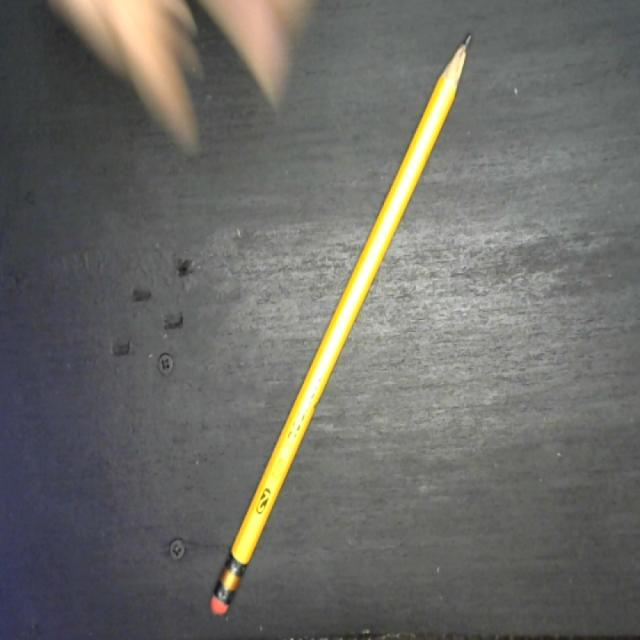biodegradable: (208, 29, 477, 620)
